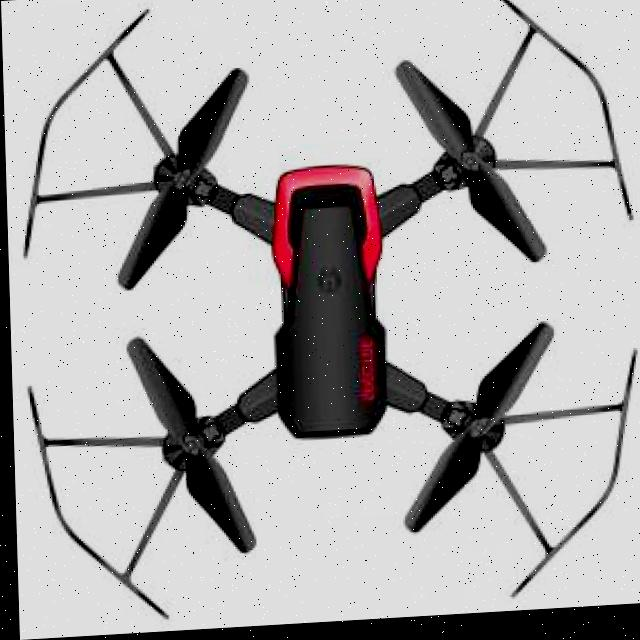drone: (11, 0, 640, 617)
